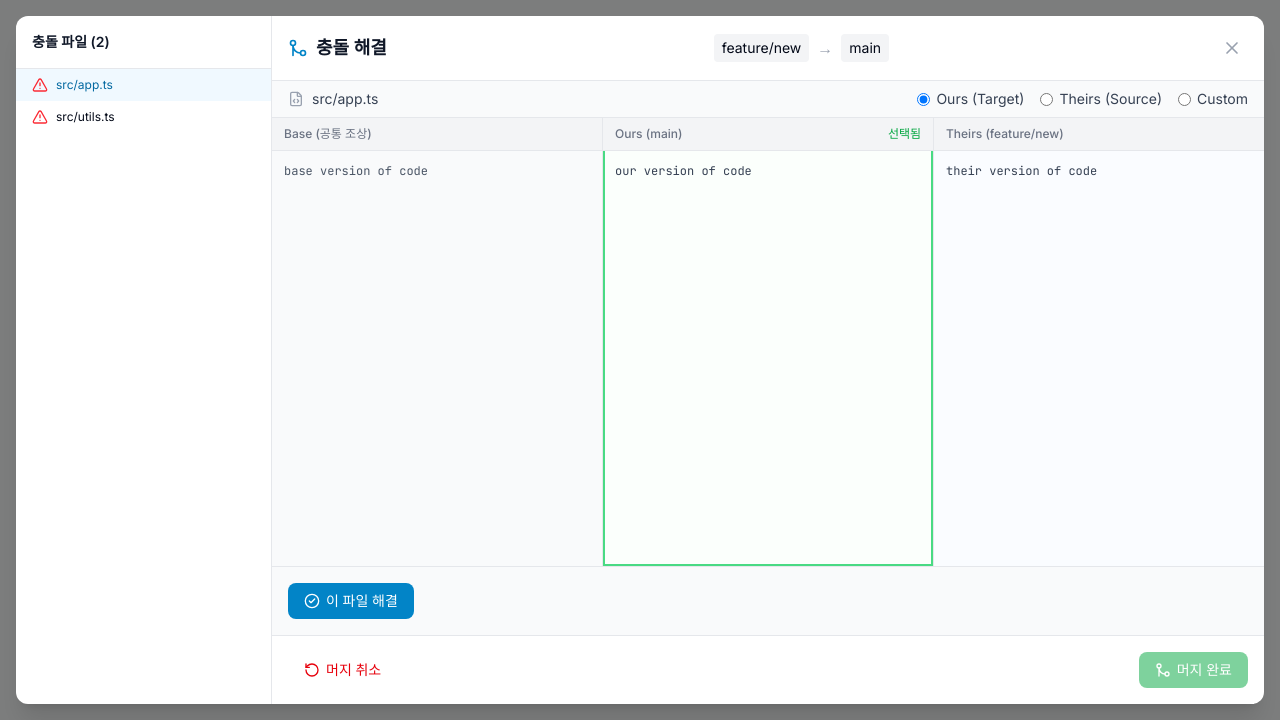
Test: ConflictResolverPanel › shows custom editor when Custom strategy is selected
The image size is (1280, 720).
# Select Custom strategy
Click the text "Custom". click: coordinates (1222, 99)
box: [1197,89,1248,109]
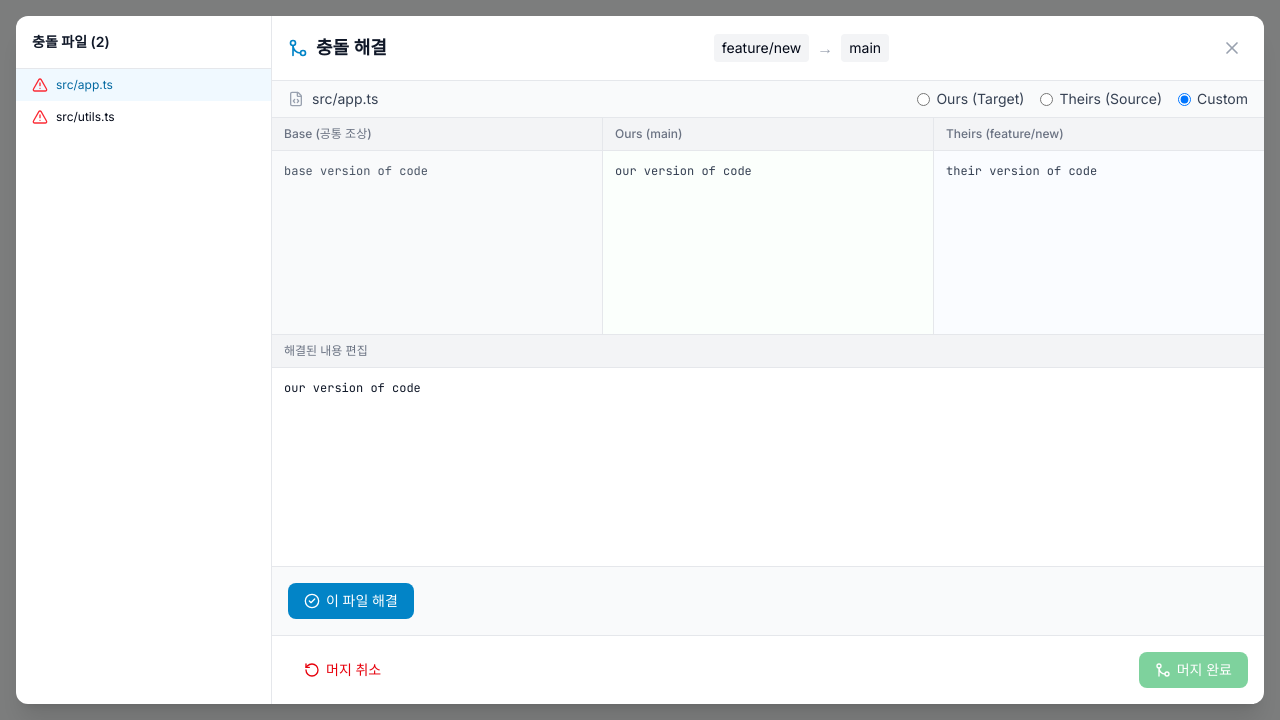
Result: the text box with placeholder "해결된 코드를 여기에 입력하세요..." is shown at [272,368,1264,560]
